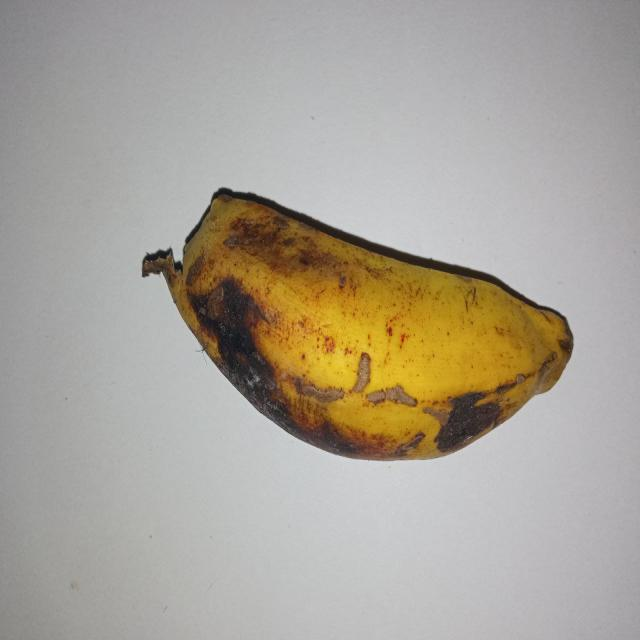rotten_banana: (182, 192, 560, 457)
